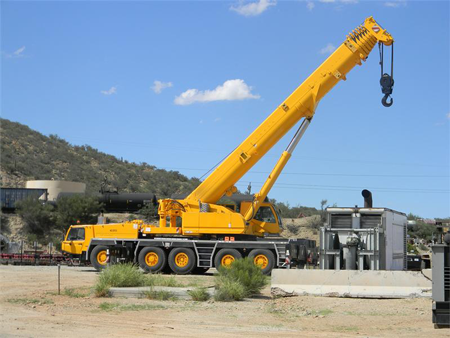crane: (55, 9, 408, 280)
